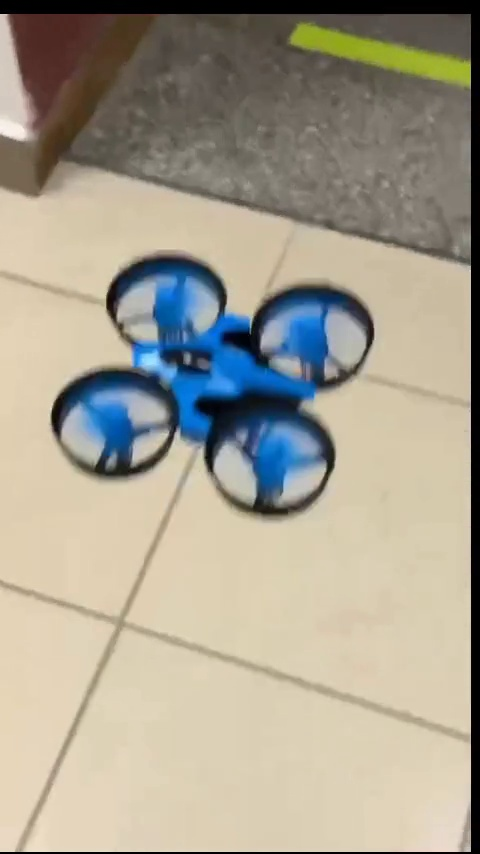drone: (50, 255, 372, 524)
